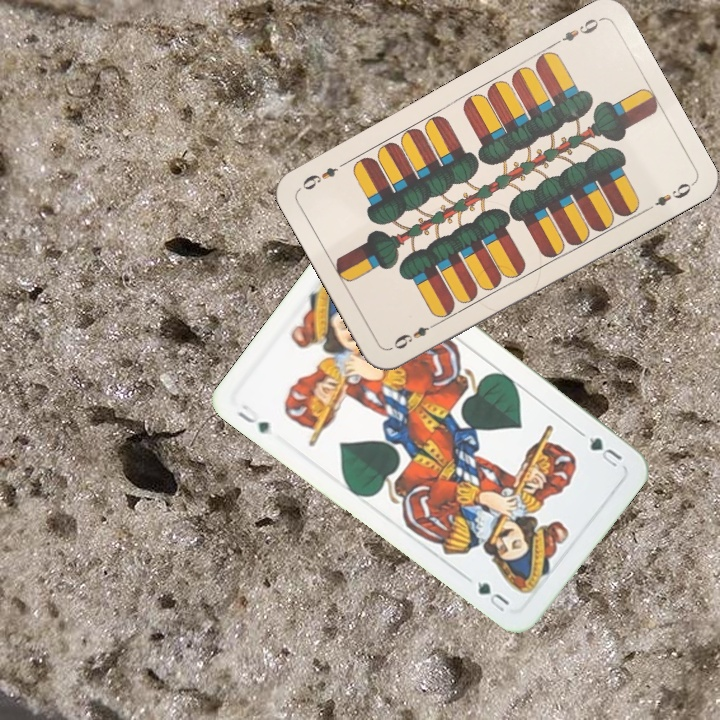E9: (549, 14, 604, 49), (389, 318, 441, 352)
GU: (232, 400, 275, 438), (584, 433, 625, 470)
